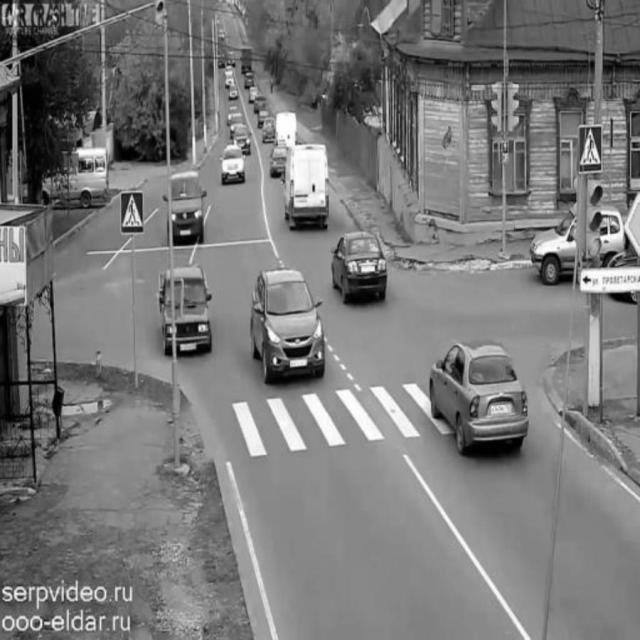vehicle: (428, 340, 529, 456), (254, 269, 322, 391), (533, 204, 625, 284), (161, 265, 212, 359), (332, 232, 390, 308), (42, 145, 110, 206), (283, 143, 330, 231), (166, 169, 204, 245), (220, 146, 247, 181), (266, 141, 286, 178), (227, 106, 245, 136), (239, 43, 254, 75), (247, 81, 261, 108), (263, 117, 279, 137), (224, 68, 236, 86)
